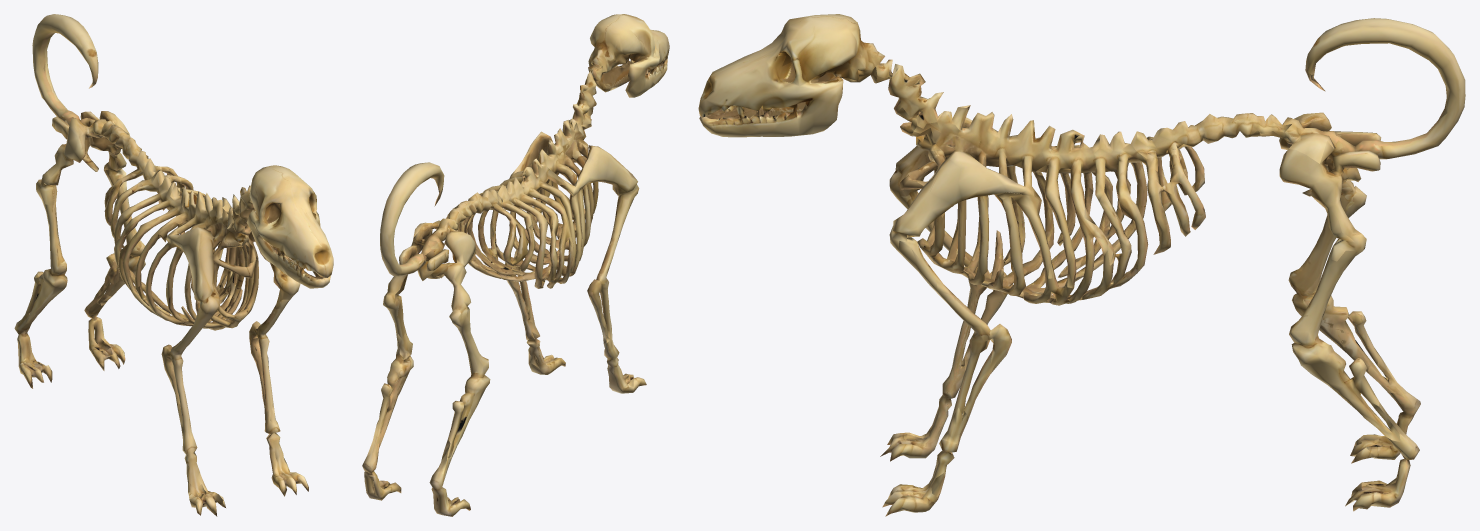
The model's file is cachorroCerto2.glb.
3 views of the same model, side by side, from view 1: azimuth 30°, elevation 25°; view 2: azimuth 150°, elevation 25°; view 3: azimuth 270°, elevation 25° (orthographic). The views are drawn at different scales.
Visible parts, largest first — view 1: Costelas, Crânio, Cauda, VertebraToracica, Escápula.001, VértebraLombar, Mândibula, Ílio.001, Úmero, TíbiaD, Úmero.001, Sacro (+19 smaller); view 2: Costelas, Crânio, Cauda, VertebraToracica, Escápula.001, Mândibula, Úmero.001, Sacro, VértebraCervical, VértebraLombar, Ílio.001, TíbiaD (+16 smaller); view 3: Costelas, Crânio, VertebraToracica, Cauda, Escápula, Mândibula, VértebraLombar, Ílio, VértebraCervical, TíbiaE, Úmero, FêmurE (+12 smaller).
Part boxes in pixels (x1,y1,x2,y2): Costelas: [104, 165, 258, 330]; Crânio: [246, 165, 333, 277]; Cauda: [32, 14, 98, 124]; VertebraToracica: [158, 175, 236, 238]; Escápula.001: [176, 227, 219, 308]; VértebraLombar: [100, 121, 187, 186]; Mândibula: [247, 224, 330, 288]; Ílio.001: [54, 118, 88, 168]; Úmero: [249, 273, 300, 338]; TíbiaD: [25, 269, 67, 324]; Úmero.001: [161, 296, 219, 362]; Sacro: [52, 113, 106, 171]; Costelas: [456, 133, 598, 288]; Crânio: [588, 14, 669, 80]; Cauda: [380, 162, 444, 276]; VertebraToracica: [497, 120, 591, 200]; Escápula.001: [578, 145, 638, 193]; Mândibula: [589, 58, 667, 97]; Úmero.001: [587, 185, 638, 298]; Sacro: [416, 212, 458, 280]; VértebraCervical: [569, 54, 606, 135]; VértebraLombar: [447, 184, 509, 223]; Ílio.001: [444, 231, 475, 284]; TíbiaD: [447, 374, 490, 468]; Costelas: [900, 136, 1205, 305]; Crânio: [698, 14, 878, 118]; VertebraToracica: [931, 105, 1129, 181]; Cauda: [1305, 18, 1465, 159]; Escápula: [893, 151, 1031, 235]; Mândibula: [699, 76, 843, 137]; VértebraLombar: [1122, 113, 1283, 178]; Ílio: [1273, 130, 1380, 184]; VértebraCervical: [867, 51, 952, 153]; TíbiaE: [1291, 331, 1378, 417]; Úmero: [889, 226, 1011, 342]; FêmurE: [1289, 234, 1366, 344].
Size of the model in its own units: 0.4431 by 1.34 by 1.99.
1 material, 1 textured.
